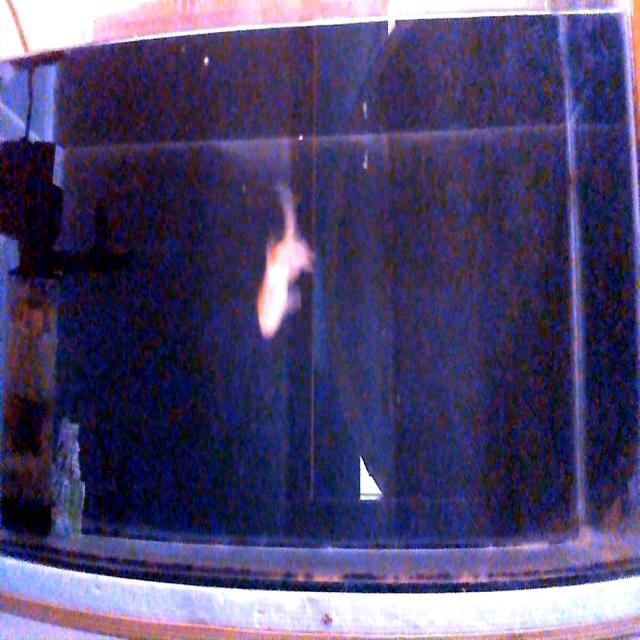fish: (256, 184, 316, 340)
